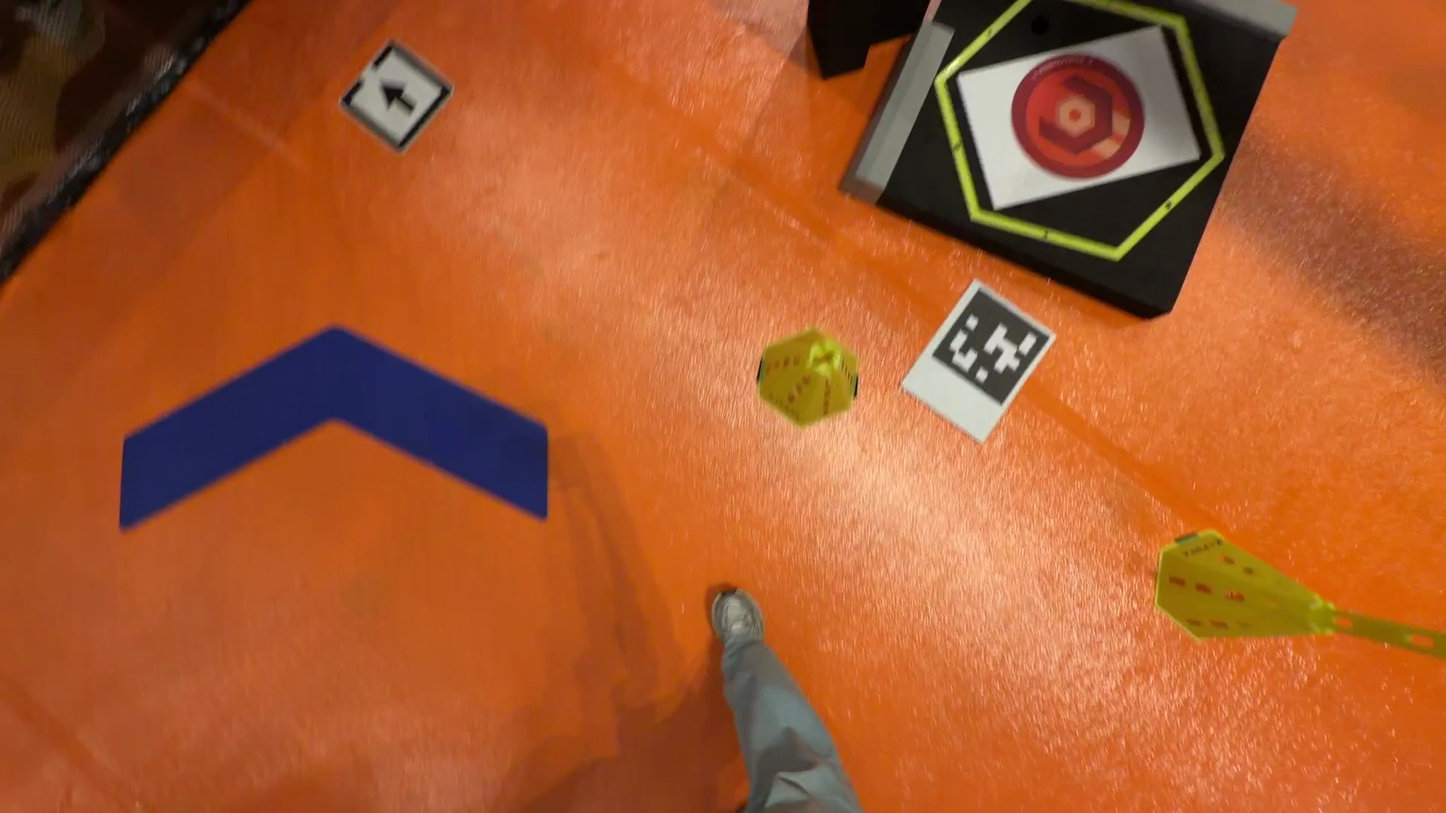landing_pad: (1008, 54, 1152, 179)
